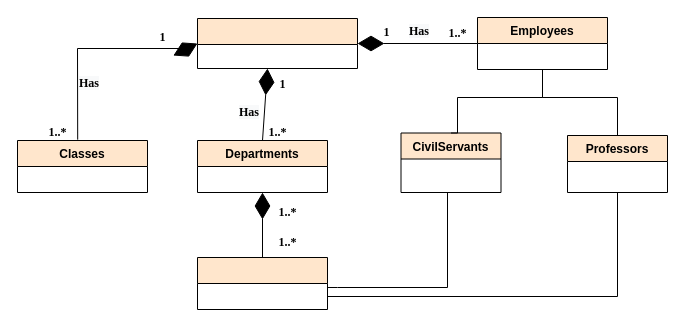
Some shapes in this 685 by 327 pixel diagram are drawn without their labels. Here are the shapes that lost their labels. From the top down, the box of each, then its label:
(196, 18, 358, 68): University
(196, 256, 328, 310): Offices
